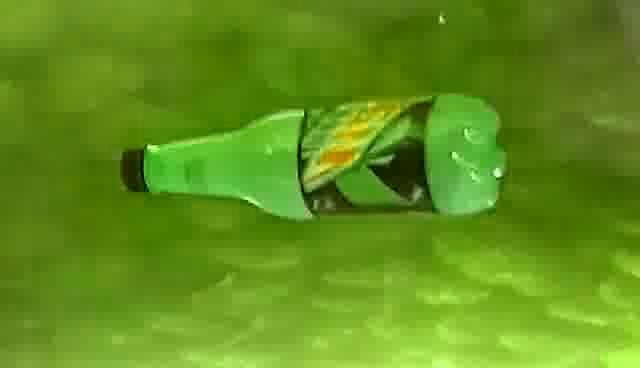Plastic: (110, 91, 517, 225)
